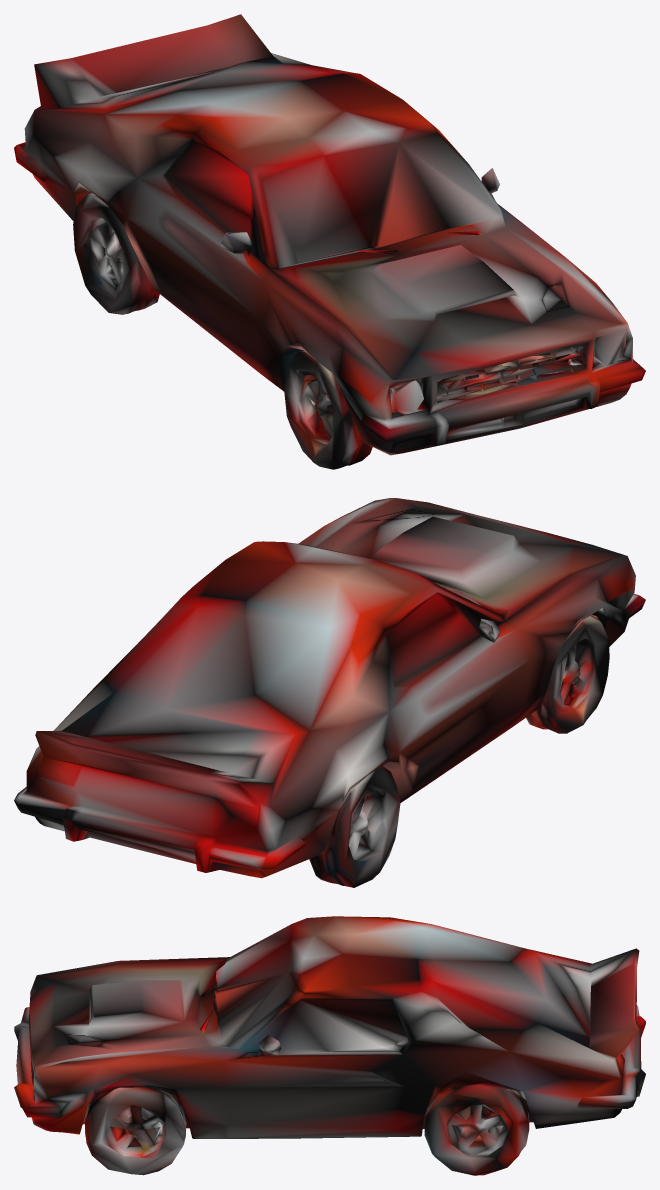
The model's file is car_muscle2.glb.
3 renders of one model, top to bottom at view 1: azimuth 30°, elevation 25°; view 2: azimuth 150°, elevation 25°; view 3: azimuth 270°, elevation 25°, orthographic. The views are drawn at different scales.
Size of the model in its own units: 1.86 by 1.41 by 4.5.
